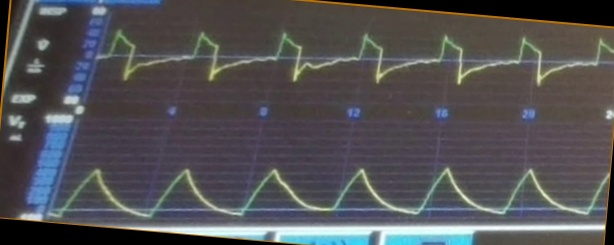Premature_cycling Flow: (104, 25, 613, 99)
Premature_cycling Volume: (60, 158, 605, 219)
